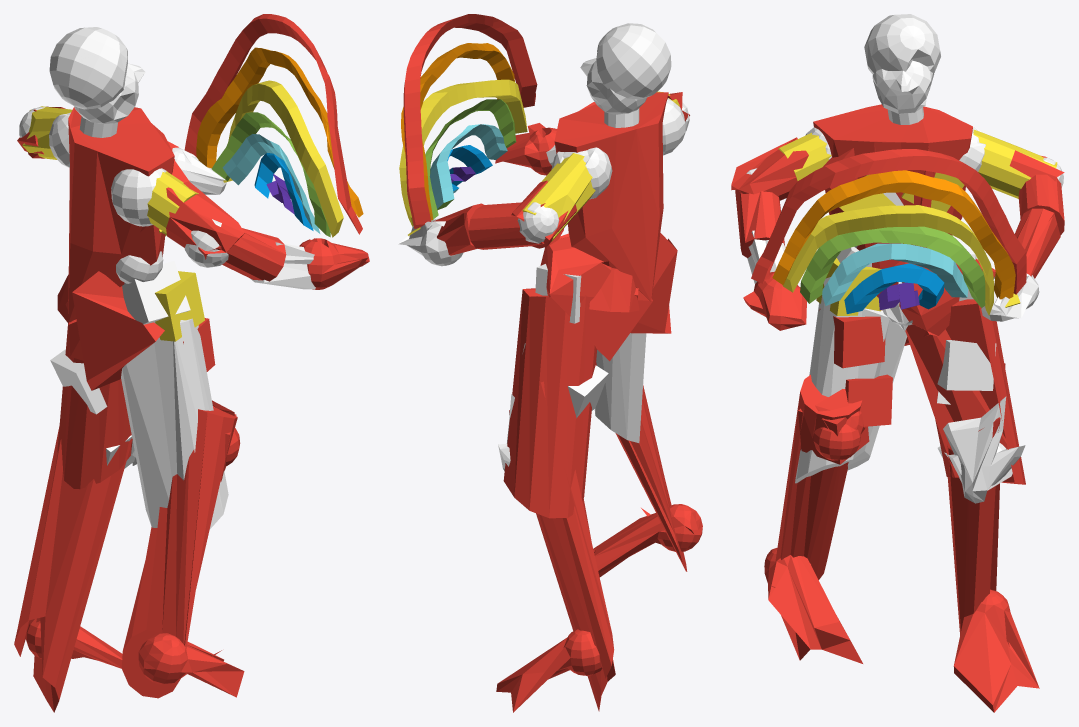
3 renders of one model, left to right at view 1: azimuth 30°, elevation 25°; view 2: azimuth 150°, elevation 25°; view 3: azimuth 270°, elevation 25°, orthographic. The views are drawn at different scales.
Parts seen in each view (by area): view 1: mesh_198124621, mesh_1976074972, mesh_1399368281, mesh_737912304, mesh_1891909028, mesh_2118304296, mesh_87715391, group_128221253, group_1409144821, group_1818875347, mesh_920836219, mesh_1929683013 (+18 smaller); view 2: mesh_2118304296, mesh_1399368281, mesh_198124621, group_128221253, mesh_607957233, mesh_87715391, mesh_737912304, mesh_920836219, mesh_1120699083, group_1818875347, mesh_1976074972, mesh_496089870 (+18 smaller); view 3: mesh_2118304296, group_128221253, mesh_1976074972, mesh_1399368281, group_1409144821, mesh_1120699083, mesh_920836219, mesh_198124621, mesh_737912304, group_1818875347, group_967917480, mesh_585619410 (+25 smaller).
Part boxes in pixels (x1,y1,x2,y2): mesh_198124621: (14, 426, 132, 712); mesh_1976074972: (121, 408, 237, 698); mesh_1399368281: (68, 107, 174, 323); mesh_737912304: (121, 318, 228, 529); mesh_1891909028: (65, 271, 164, 390); mesh_2118304296: (57, 323, 132, 489); mesh_87715391: (49, 27, 127, 109); group_128221253: (184, 14, 362, 234); group_1409144821: (196, 47, 363, 217); group_1818875347: (223, 80, 343, 237); mesh_920836219: (138, 633, 244, 697); mesh_1929683013: (166, 181, 244, 259); mesh_2118304296: (503, 288, 597, 518); mesh_1399368281: (554, 92, 668, 301); mesh_198124621: (509, 381, 615, 711); group_128221253: (403, 14, 537, 228); mesh_607957233: (540, 233, 652, 361); mesh_87715391: (596, 23, 671, 99); mesh_737912304: (594, 333, 646, 442); mesh_920836219: (593, 504, 702, 577); mesh_1120699083: (496, 629, 602, 712); group_1818875347: (399, 79, 527, 226); mesh_1976074972: (615, 385, 687, 571); mesh_496089870: (522, 153, 595, 241); mesh_2118304296: (905, 299, 1025, 484); group_128221253: (751, 149, 1026, 294); mesh_1976074972: (775, 375, 862, 579); mesh_1399368281: (813, 104, 972, 268); group_1409144821: (772, 170, 1015, 299); mesh_1120699083: (953, 589, 1039, 712); mesh_920836219: (764, 548, 862, 663); mesh_198124621: (947, 363, 1005, 635); mesh_737912304: (795, 296, 907, 483); group_1818875347: (782, 205, 993, 315); group_967917480: (800, 226, 985, 307); mesh_585619410: (943, 396, 1025, 503).
Size of the model in its own units: 82.73 by 225 by 103.
